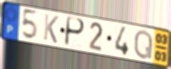2: (88, 22, 104, 53)
4: (114, 26, 131, 58)
5: (21, 8, 40, 43)
K: (42, 13, 60, 46)
P: (63, 16, 86, 48)
Q: (132, 29, 154, 61)
